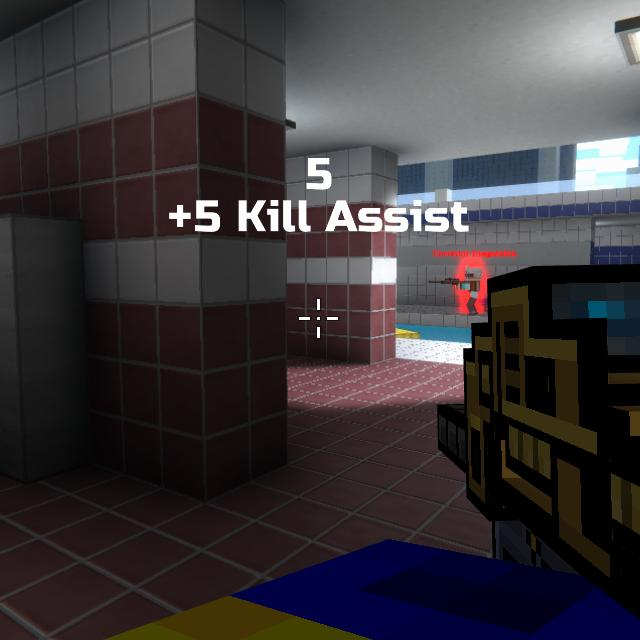Enemy: (457, 267, 482, 315)
